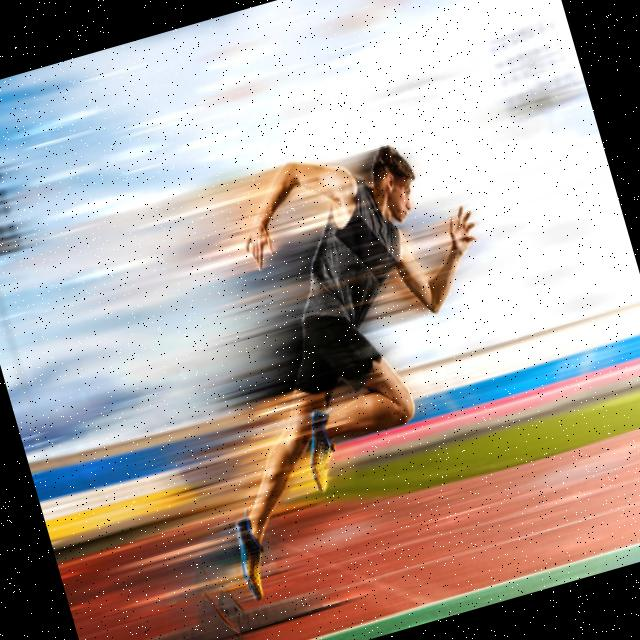Person: (138, 116, 558, 600)
